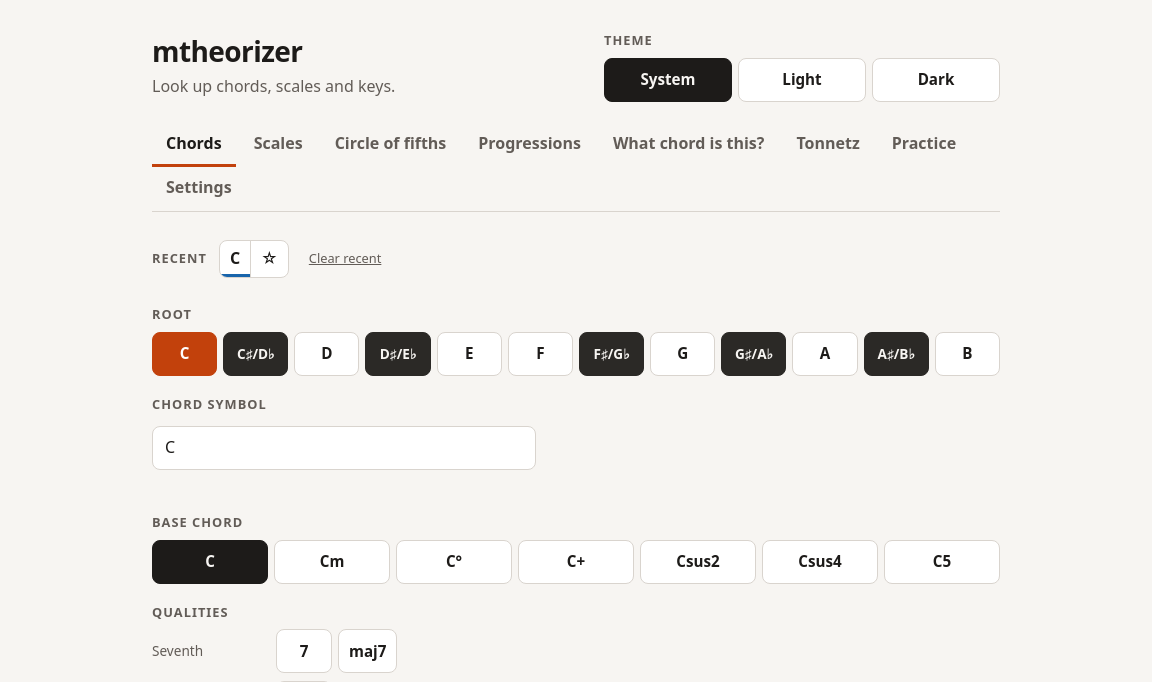
Test: App › chord builder › opens the chord that is typed in the chord symbol field
The image size is (1152, 682).
Replace the text in the field labelled "Chord symbol" with "Dm7b5" at (344, 448), box [152,426,536,470]
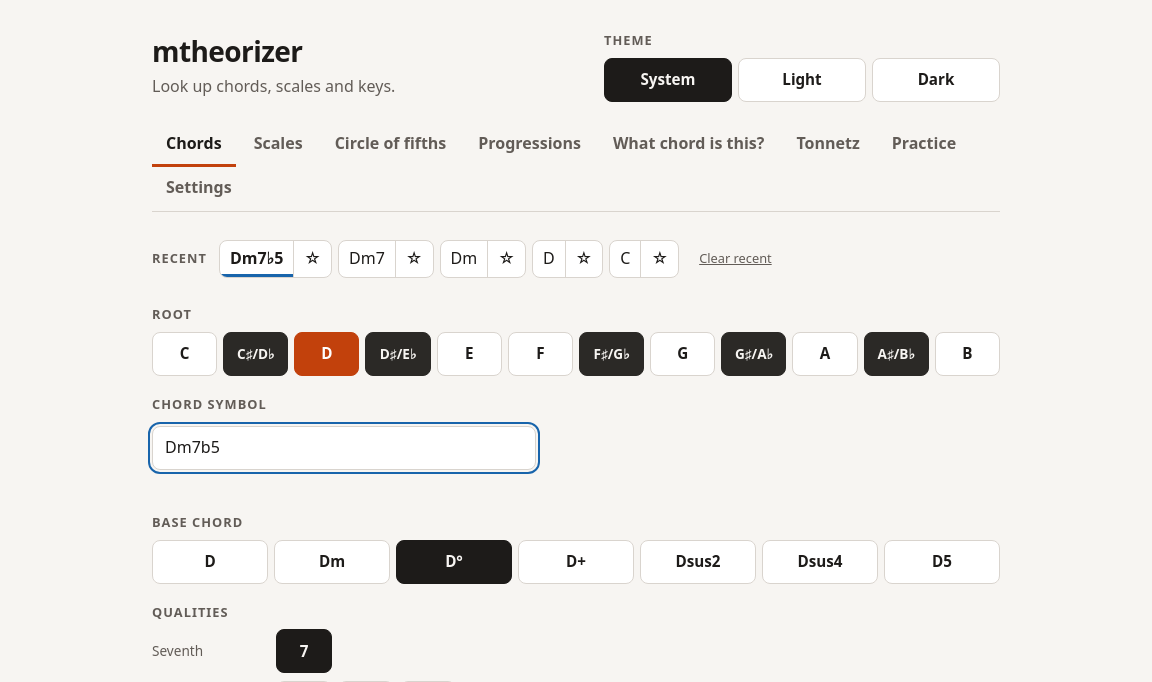
Changing the chord with the builder updates the field.
Click the radio button named "Major" at (210, 562), box [152,540,268,584]
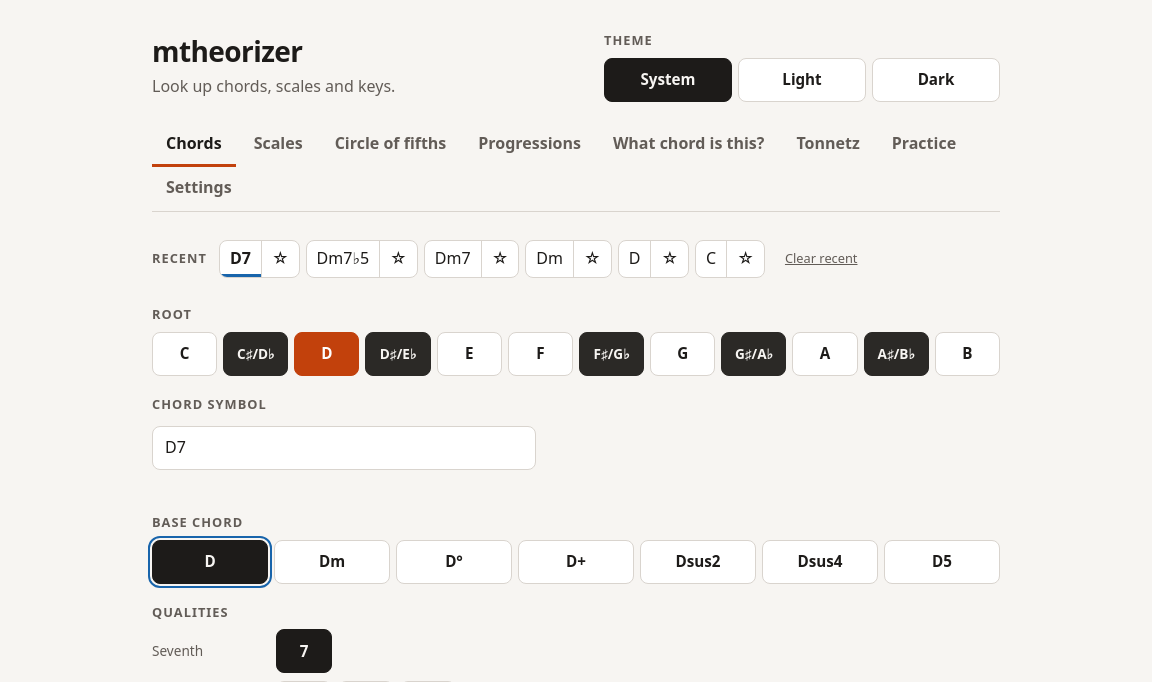
Check: the field labelled "Chord symbol" holds "D7", box [152,426,536,470]
